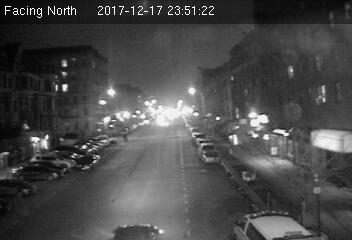car: (75, 153, 100, 171), (197, 152, 221, 164)
police: (223, 202, 307, 240)
